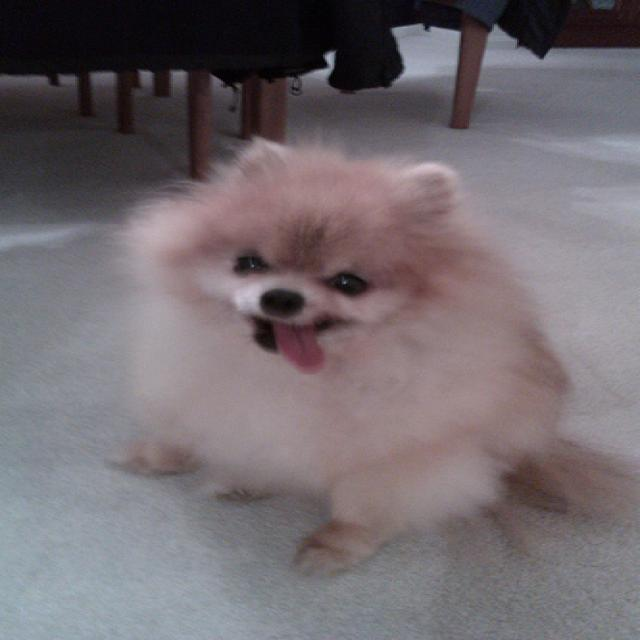dog-pomeranian: (86, 125, 632, 582)
